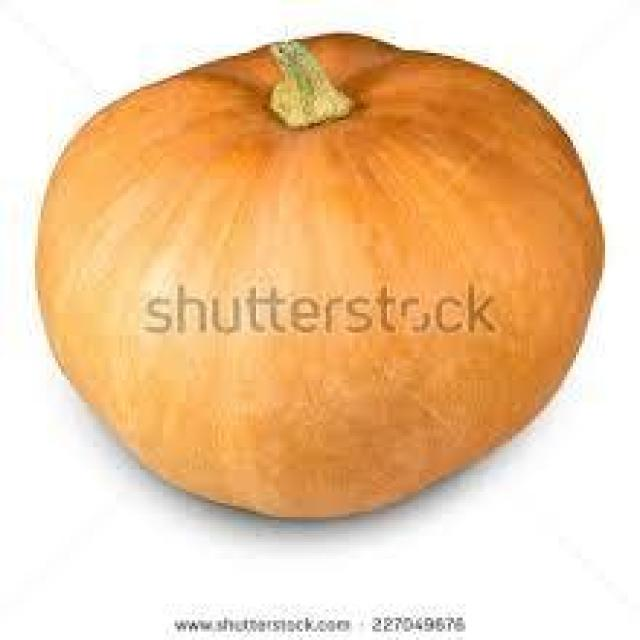organic: (35, 34, 608, 525)
